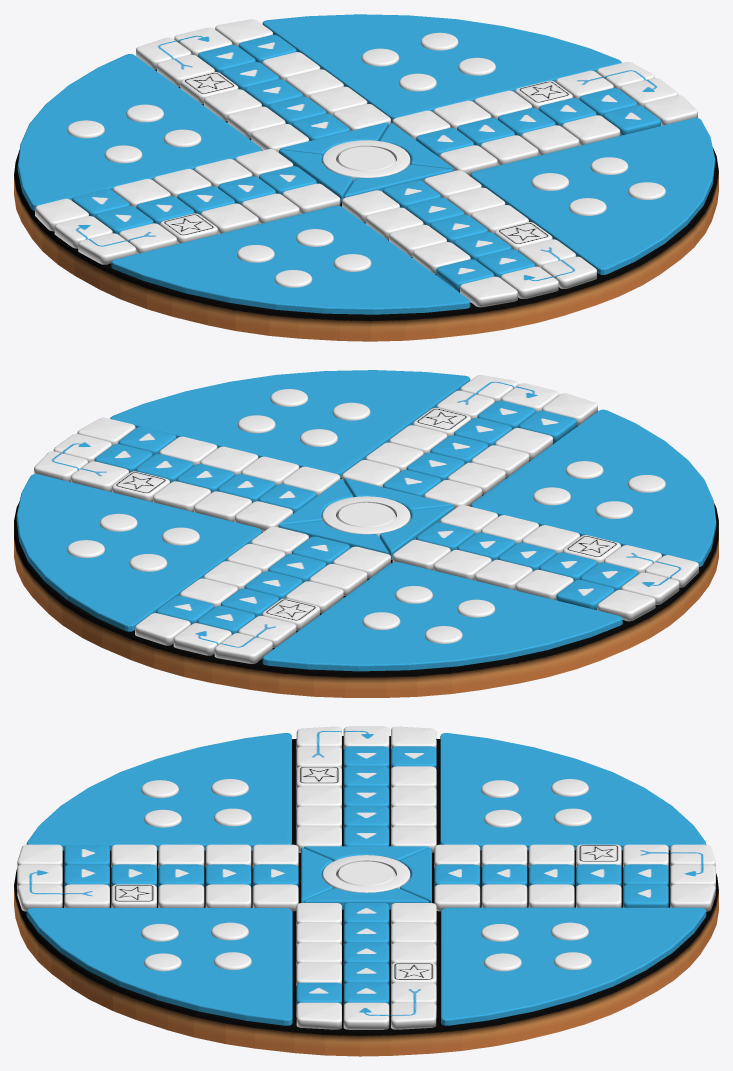
Rendered from 4_patern.fbx.
3 views of the same model, one above another, from view 1: azimuth 30°, elevation 25°; view 2: azimuth 150°, elevation 25°; view 3: azimuth 270°, elevation 25° (orthographic).
Parts seen in each view (by area): view 1: R_space_4P, ludo_table, B_space_4P, G_space_4P, Y_space_4P, Centre_circle_4P, Y_End_4P_End, R_End_4P_End, R_slot_4P_00, G_End_4P_End, R_slot_4P_12, Y_slot_4P_11 (+86 smaller); view 2: Y_space_4P, ludo_table, G_space_4P, B_space_4P, R_space_4P, Centre_circle_4P, Y_End_4P_End, G_End_4P_End, G_slot_4P_11, R_End_4P_End, G_slot_4P_12, Y_slot_4P_00 (+86 smaller); view 3: ludo_table, G_space_4P, B_space_4P, Y_space_4P, R_space_4P, Centre_circle_4P, B_End_4P_End, B_slot_4P_12, Y_End_4P_End, B_slot_4P_11, B_slot_4P_00, G_End_4P_End (+86 smaller).
Part boxes in pixels (x1=…): R_space_4P: x1=111, y1=206, x2=470, y2=314; ludo_table: x1=14, y1=69, x2=718, y2=341; B_space_4P: x1=471, y1=118, x2=715, y2=274; G_space_4P: x1=262, y1=14, x2=621, y2=122; Y_space_4P: x1=17, y1=54, x2=261, y2=210; Centre_circle_4P: x1=322, y1=140, x2=410, y2=181; Y_End_4P_End: x1=279, y1=149, x2=353, y2=203; R_End_4P_End: x1=344, y1=164, x2=452, y2=197; R_slot_4P_00: x1=460, y1=276, x2=517, y2=307; G_End_4P_End: x1=280, y1=122, x2=388, y2=160; R_slot_4P_12: x1=500, y1=266, x2=558, y2=298; Y_slot_4P_11: x1=78, y1=233, x2=136, y2=264; Y_space_4P: x1=262, y1=562, x2=622, y2=671; ludo_table: x1=14, y1=425, x2=718, y2=697; G_space_4P: x1=16, y1=474, x2=261, y2=631; B_space_4P: x1=110, y1=370, x2=470, y2=478; R_space_4P: x1=471, y1=409, x2=716, y2=566; Centre_circle_4P: x1=322, y1=496, x2=410, y2=537; Y_End_4P_End: x1=379, y1=506, x2=454, y2=559; G_End_4P_End: x1=279, y1=521, x2=388, y2=554; G_slot_4P_11: x1=214, y1=633, x2=272, y2=663; R_End_4P_End: x1=344, y1=478, x2=453, y2=514; G_slot_4P_12: x1=173, y1=623, x2=231, y2=655; Y_slot_4P_00: x1=597, y1=589, x2=655, y2=621; ludo_table: x1=14, y1=736, x2=718, y2=1056; G_space_4P: x1=441, y1=907, x2=706, y2=1025; B_space_4P: x1=26, y1=908, x2=292, y2=1025; Y_space_4P: x1=440, y1=733, x2=706, y2=850; R_space_4P: x1=26, y1=733, x2=291, y2=850; Centre_circle_4P: x1=322, y1=855, x2=410, y2=892; B_End_4P_End: x1=304, y1=888, x2=428, y2=909; B_slot_4P_12: x1=343, y1=1002, x2=389, y2=1029; Y_End_4P_End: x1=304, y1=846, x2=428, y2=861; B_slot_4P_11: x1=391, y1=1002, x2=436, y2=1029; B_slot_4P_00: x1=296, y1=1002, x2=341, y2=1029; G_End_4P_End: x1=400, y1=847, x2=431, y2=902.
Bounding box in the file's own units: 419 × 22.44 × 419.
